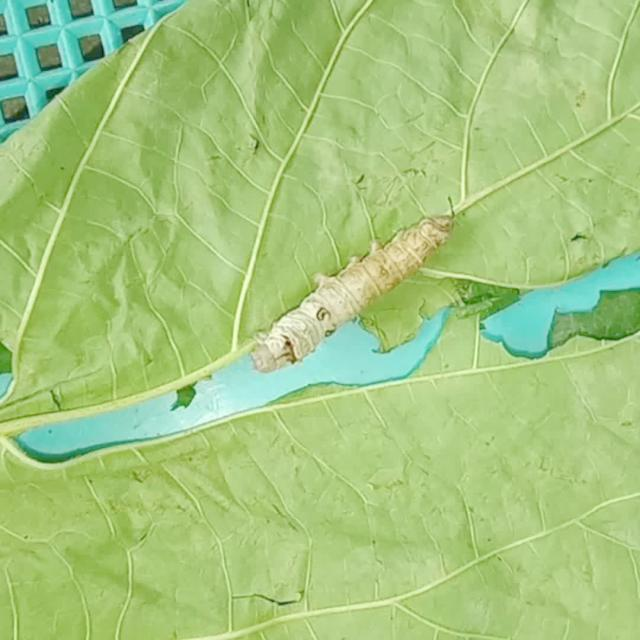Grasserie: (241, 173, 458, 378)
